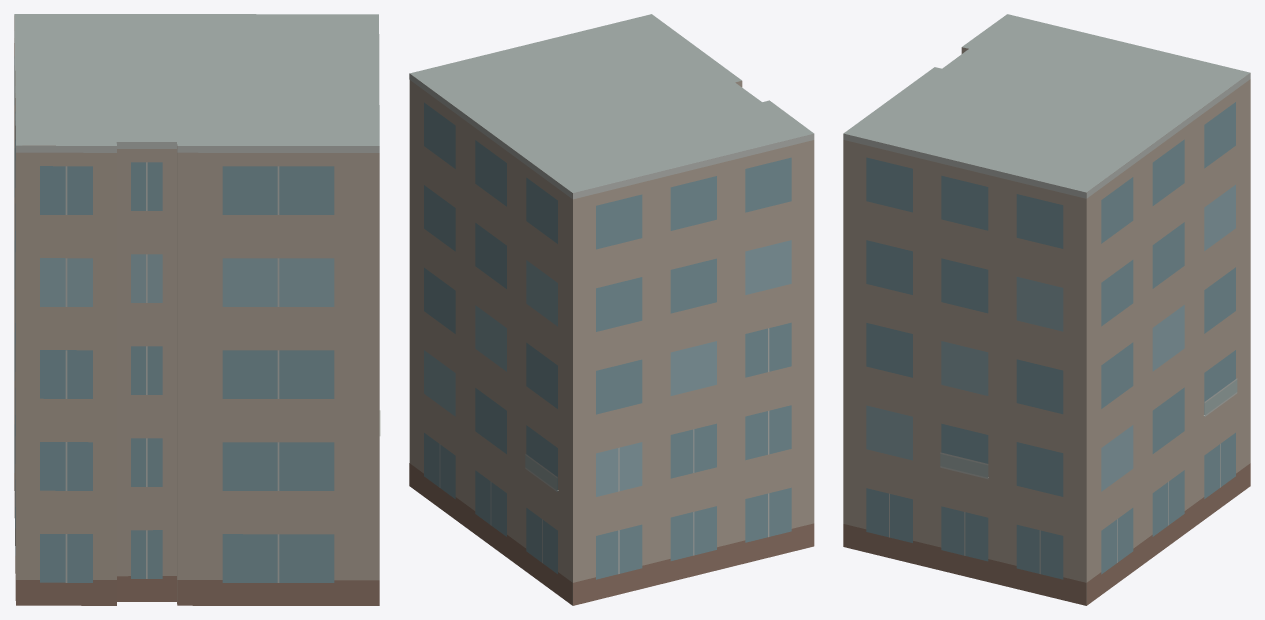
Rendered from survey-upis-32884255.glb.
3 views of the same model, side by side, from view 1: azimuth 30°, elevation 25°; view 2: azimuth 150°, elevation 25°; view 3: azimuth 270°, elevation 25° (orthographic). The views are drawn at different scales.
Visible parts, largest first — view 1: survey-upis-32884255.tmp; view 2: survey-upis-32884255.tmp; view 3: survey-upis-32884255.tmp.
Part boxes in pixels (left/top/right/bottom): survey-upis-32884255.tmp: left=14, top=14, right=380, bottom=605; survey-upis-32884255.tmp: left=409, top=14, right=814, bottom=605; survey-upis-32884255.tmp: left=843, top=14, right=1250, bottom=605.
Bounding box in the file's own units: 14.92 × 16.1 × 14.39.
